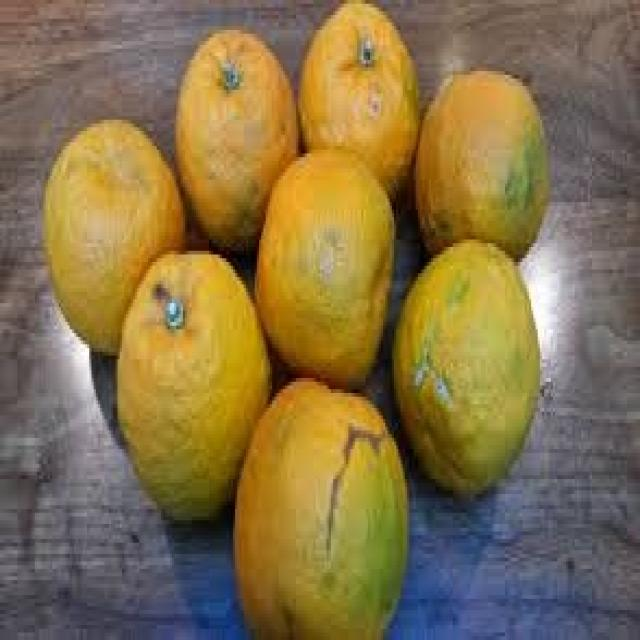Good_Orange: (113, 251, 274, 524), (39, 120, 187, 363), (253, 150, 394, 385), (174, 30, 300, 251)
